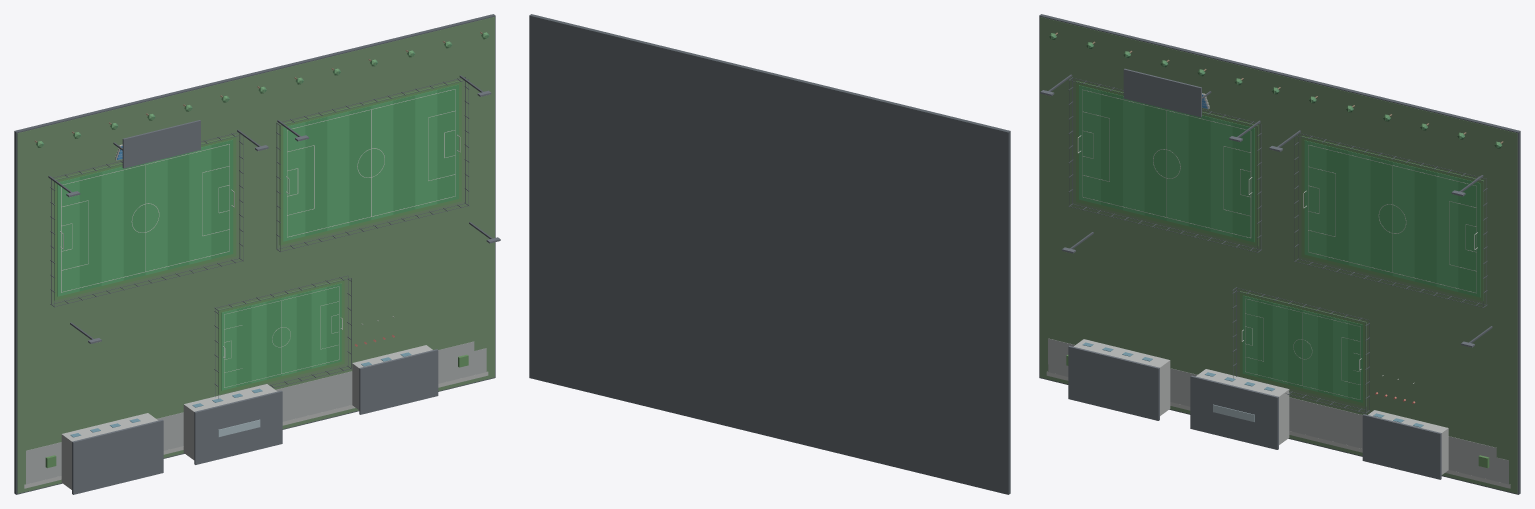
Rendered from training_ground_level_3.glb.
3 views of the same model, side by side, from view 1: azimuth 30°, elevation 25°; view 2: azimuth 150°, elevation 25°; view 3: azimuth 330°, elevation 25° (orthographic).
Parts seen in each view (by area): view 1: base, grass2, grass3, roof, dark, hedge, paving, concrete, lines, tree; view 2: dark; view 3: base, grass3, grass2, roof, dark, hedge, paving, concrete, lines.
Part boxes in pixels (x1,y1,x2,y2): base: [17, 16, 494, 493]; grass2: [57, 90, 437, 390]; grass3: [79, 84, 458, 386]; roof: [66, 90, 500, 494]; dark: [14, 14, 495, 494]; hedge: [45, 80, 468, 467]; paving: [26, 341, 486, 484]; concrete: [24, 144, 488, 489]; lines: [61, 89, 455, 387]; tree: [36, 32, 487, 147]; dark: [529, 14, 1010, 494]; base: [1040, 17, 1517, 493]; grass3: [1101, 91, 1480, 402]; grass2: [1079, 85, 1458, 399]; roof: [1040, 68, 1474, 479]; dark: [1039, 14, 1520, 494]; hedge: [1066, 81, 1489, 468]; paving: [1048, 338, 1508, 484]; concrete: [1046, 93, 1510, 488]; lines: [1082, 89, 1476, 399].
Size of the model in its own units: 155 by 112 by 15.62.
